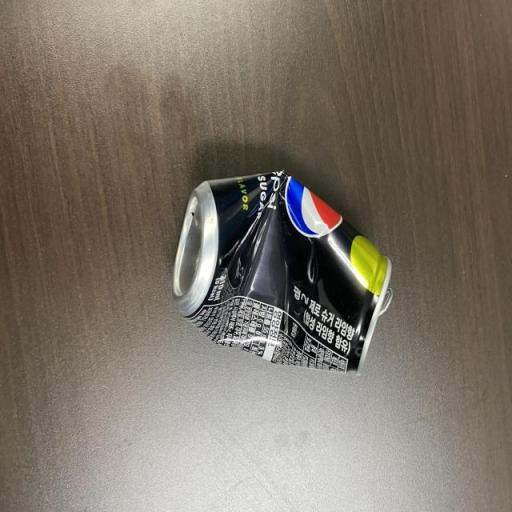metal: (164, 155, 400, 395)
